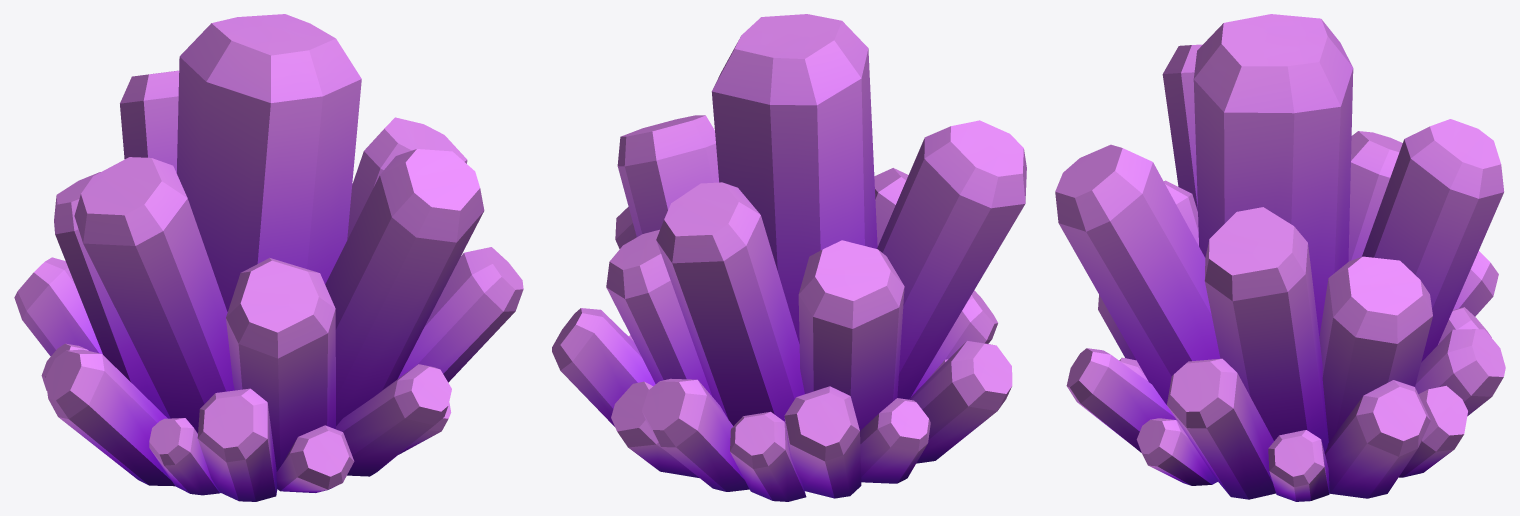
File: crystal_3.fbx
3 renders of one model, left to right at view 1: azimuth 30°, elevation 25°; view 2: azimuth 150°, elevation 25°; view 3: azimuth 270°, elevation 25°, orthographic. The views are drawn at different scales.
Visible parts, largest first — view 1: crystal_3; view 2: crystal_3; view 3: crystal_3.
Part boxes in pixels (x1,y1,x2,y2): crystal_3: (14,14,523,501); crystal_3: (552,14,1026,501); crystal_3: (1055,14,1505,501).
Size of the model in its own units: 1.45 by 1.31 by 1.31.
